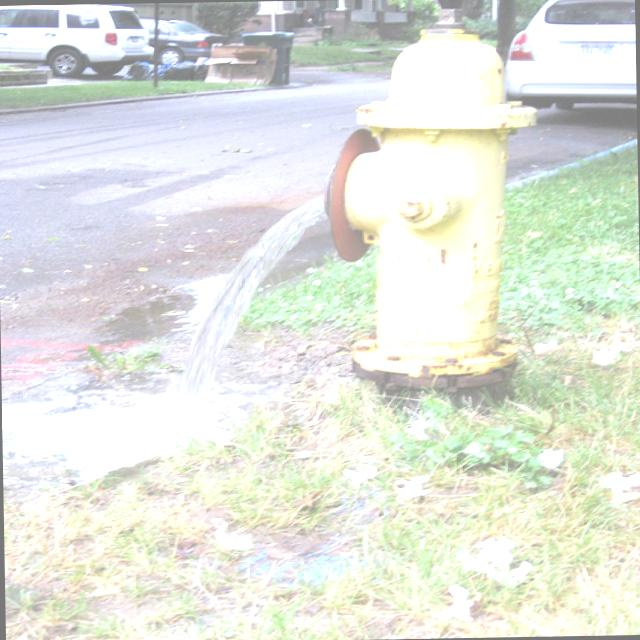Vehicle: (501, 0, 636, 111), (0, 2, 153, 78), (0, 2, 153, 77), (157, 16, 227, 66)
